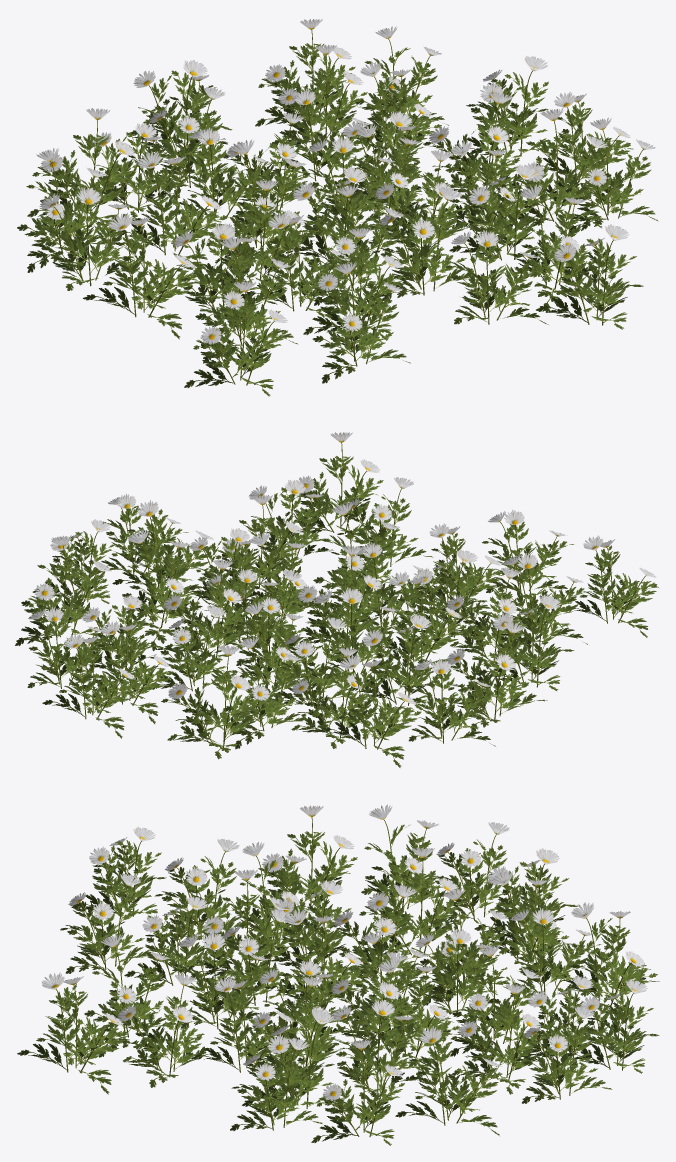
3 renders of one model, top to bottom at view 1: azimuth 30°, elevation 25°; view 2: azimuth 150°, elevation 25°; view 3: azimuth 270°, elevation 25°, orthographic. The views are drawn at different scales.
Parts seen in each view (by area): view 1: Tree_1, Tree_0, Tree_2; view 2: Tree_1, Tree_0, Tree_2; view 3: Tree_1, Tree_0, Tree_2.
Boxes of the visible parts, left/top/right/bottom form: Tree_1: left=17, top=43, right=658, bottom=396; Tree_0: left=36, top=19, right=655, bottom=344; Tree_2: left=50, top=29, right=644, bottom=385; Tree_1: left=15, top=456, right=658, bottom=767; Tree_0: left=28, top=432, right=656, bottom=704; Tree_2: left=39, top=442, right=646, bottom=749; Tree_1: left=17, top=824, right=659, bottom=1145; Tree_0: left=41, top=804, right=647, bottom=1101; Tree_2: left=56, top=816, right=633, bottom=1136.
Size of the model in its own units: 4.29 by 0.8324 by 4.42.
3 materials, 3 textured.
